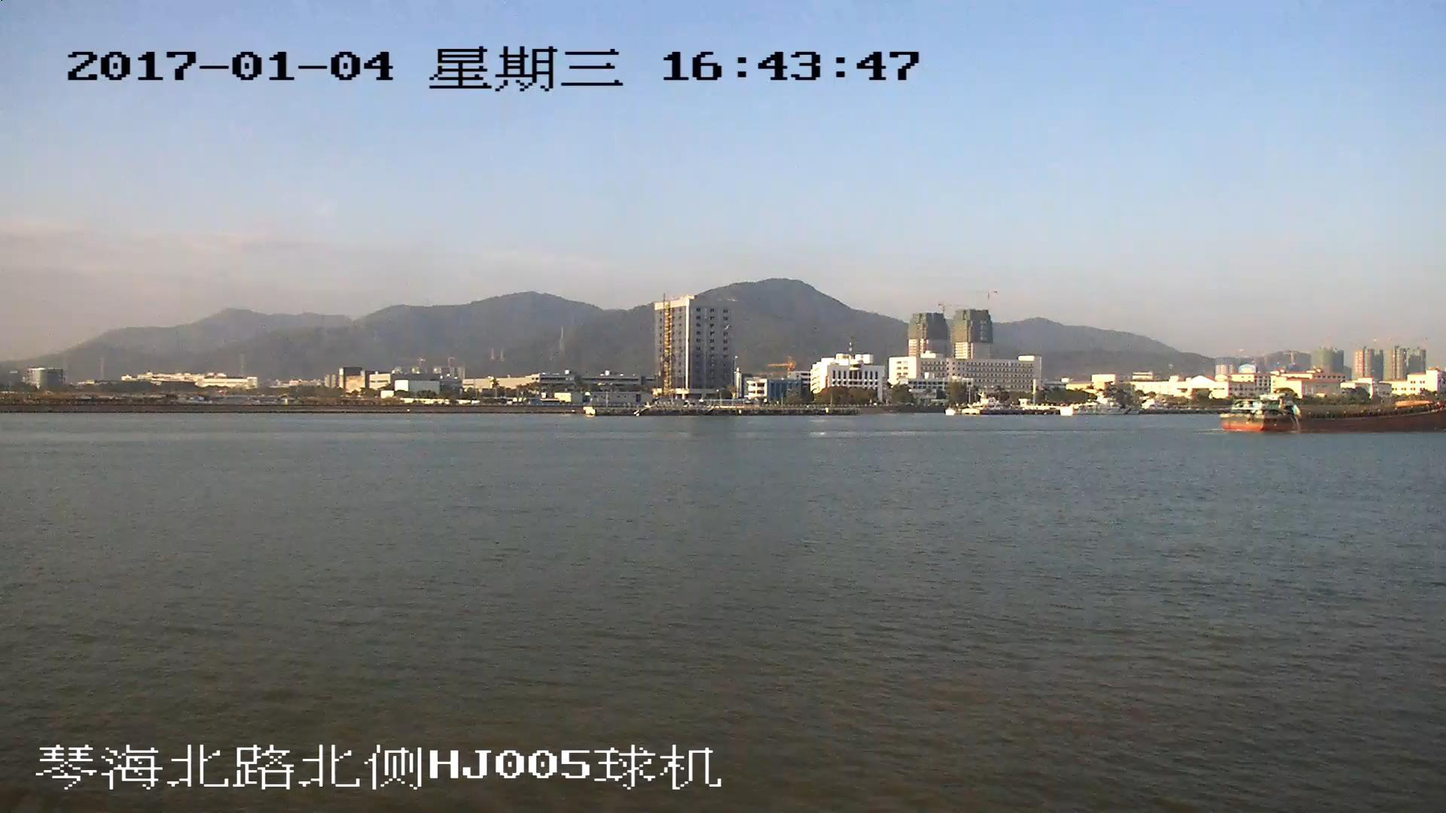bulk cargo carrier: (1221, 392, 1445, 432)
